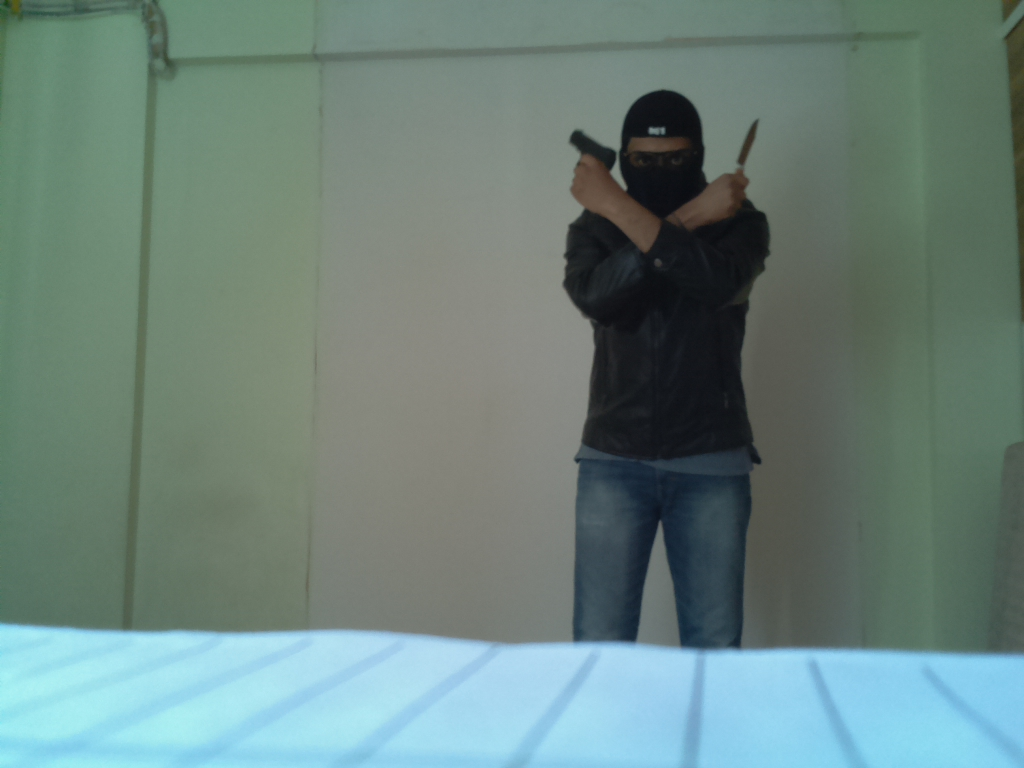gun: (566, 112, 617, 179)
knife: (731, 113, 765, 181)
